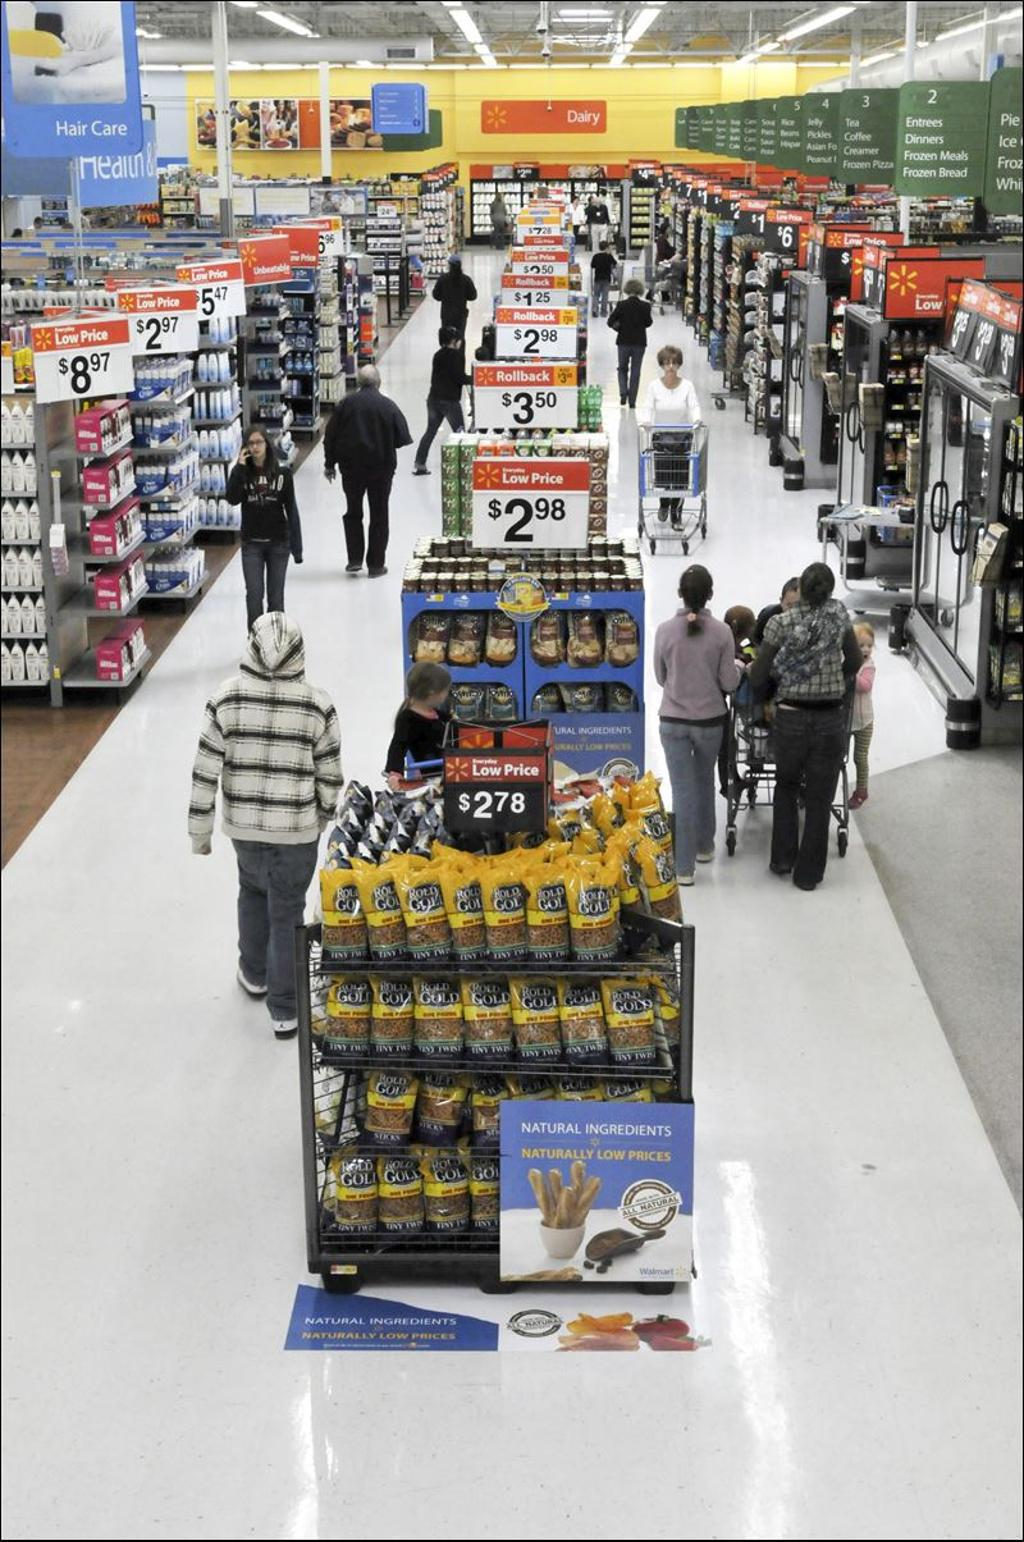face: (785, 592, 808, 622), (856, 634, 874, 662), (248, 434, 267, 459), (432, 681, 450, 705), (664, 358, 679, 375), (457, 334, 463, 349), (345, 269, 352, 277), (574, 198, 579, 206), (590, 198, 594, 204), (596, 201, 601, 208)
